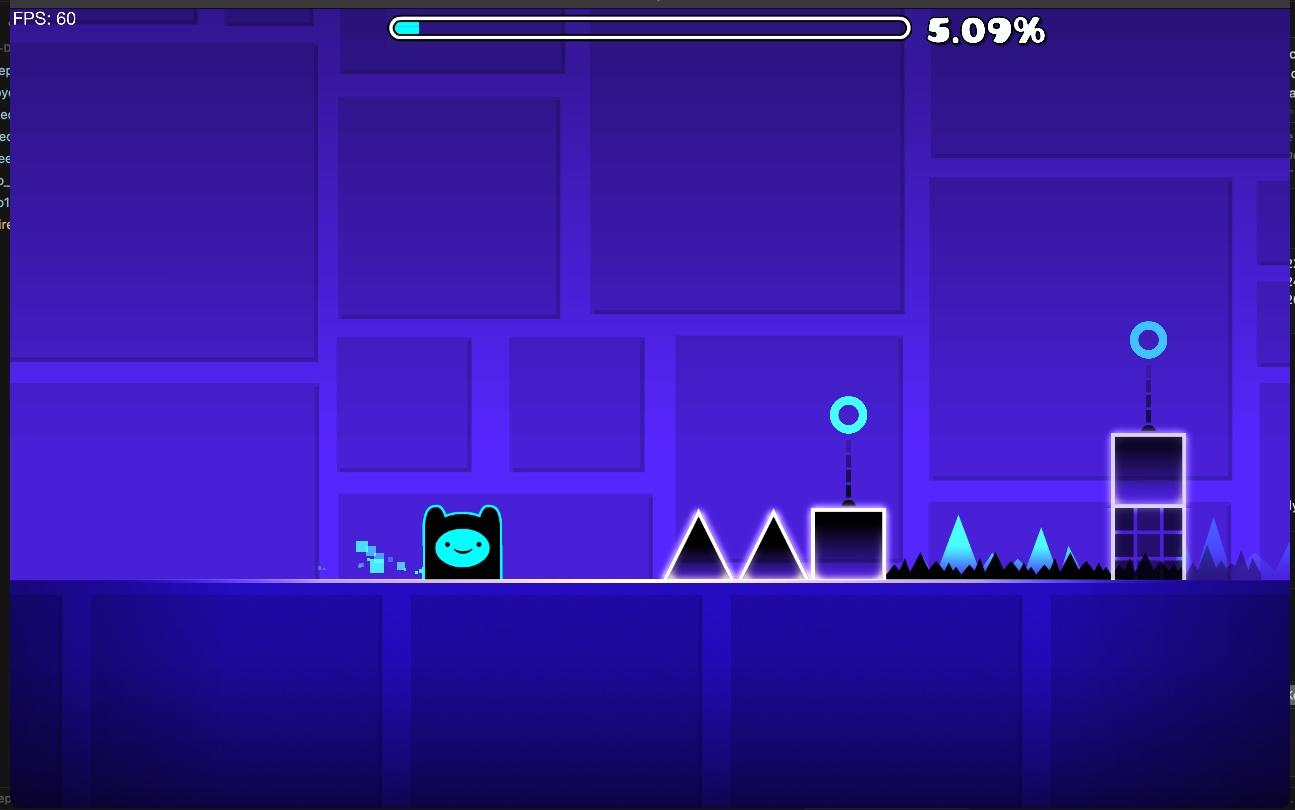block: (1111, 431, 1185, 578), (813, 508, 885, 577)
player: (423, 505, 501, 578)
spike: (664, 510, 733, 578), (740, 511, 806, 578), (940, 516, 977, 571), (1026, 529, 1053, 571)
